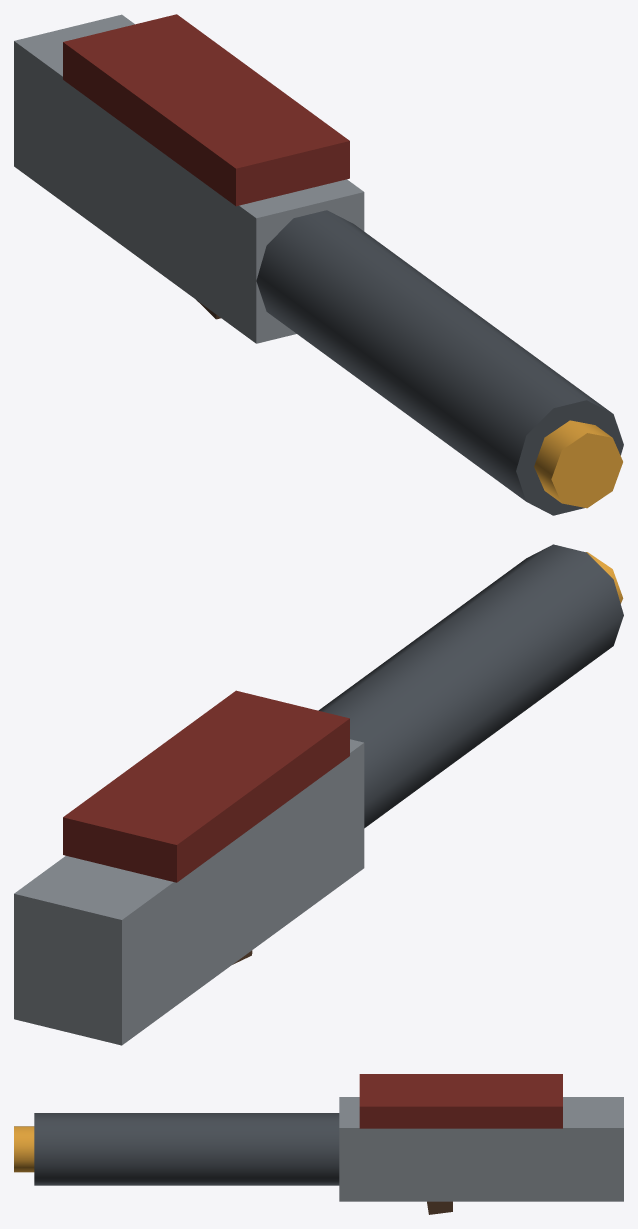
The picture shows the model from 3 angles, top to bottom: view 1: azimuth 30°, elevation 25°; view 2: azimuth 150°, elevation 25°; view 3: azimuth 270°, elevation 25°; orthographic projection. The views are drawn at different scales.
Parts seen in each view (by area): view 1: garde_weapon_plasma_caster; view 2: garde_weapon_plasma_caster; view 3: garde_weapon_plasma_caster.
Part boxes in pixels (bbox=[...]): garde_weapon_plasma_caster: bbox=[14, 14, 623, 515]; garde_weapon_plasma_caster: bbox=[14, 544, 623, 1045]; garde_weapon_plasma_caster: bbox=[14, 1074, 623, 1214].
Size of the model in its own units: 0.19 by 0.3242 by 1.5.
